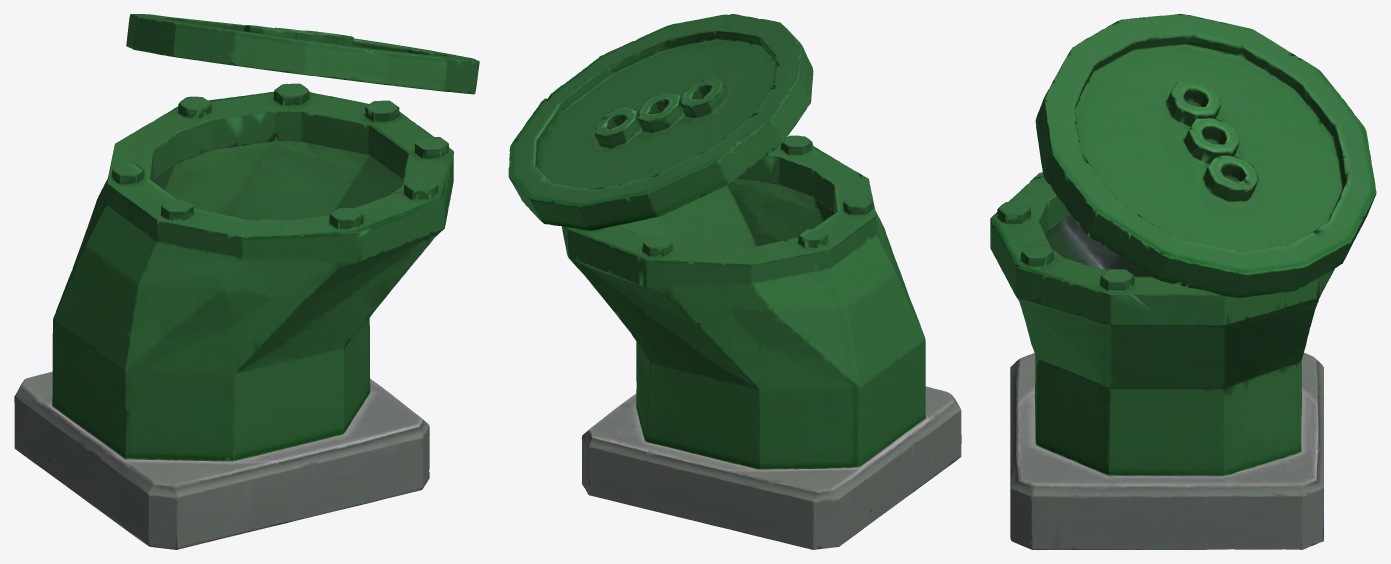
The model's file is chute.glb.
The picture shows the model from 3 angles, left to right: view 1: azimuth 30°, elevation 25°; view 2: azimuth 150°, elevation 25°; view 3: azimuth 270°, elevation 25°; orthographic projection. The views are drawn at different scales.
Parts seen in each view (by area): view 1: tripo_node_b2085f89-42fe-45bb-b875-e7fc5fbb2fbd; view 2: tripo_node_b2085f89-42fe-45bb-b875-e7fc5fbb2fbd; view 3: tripo_node_b2085f89-42fe-45bb-b875-e7fc5fbb2fbd.
Boxes of the visible parts, bbox=[...] form: tripo_node_b2085f89-42fe-45bb-b875-e7fc5fbb2fbd: bbox=[14, 14, 479, 549]; tripo_node_b2085f89-42fe-45bb-b875-e7fc5fbb2fbd: bbox=[508, 14, 961, 549]; tripo_node_b2085f89-42fe-45bb-b875-e7fc5fbb2fbd: bbox=[990, 14, 1376, 549].
Bounding box in the file's own units: 0.8901 × 0.9786 × 0.7502.
1 material, 1 textured.
